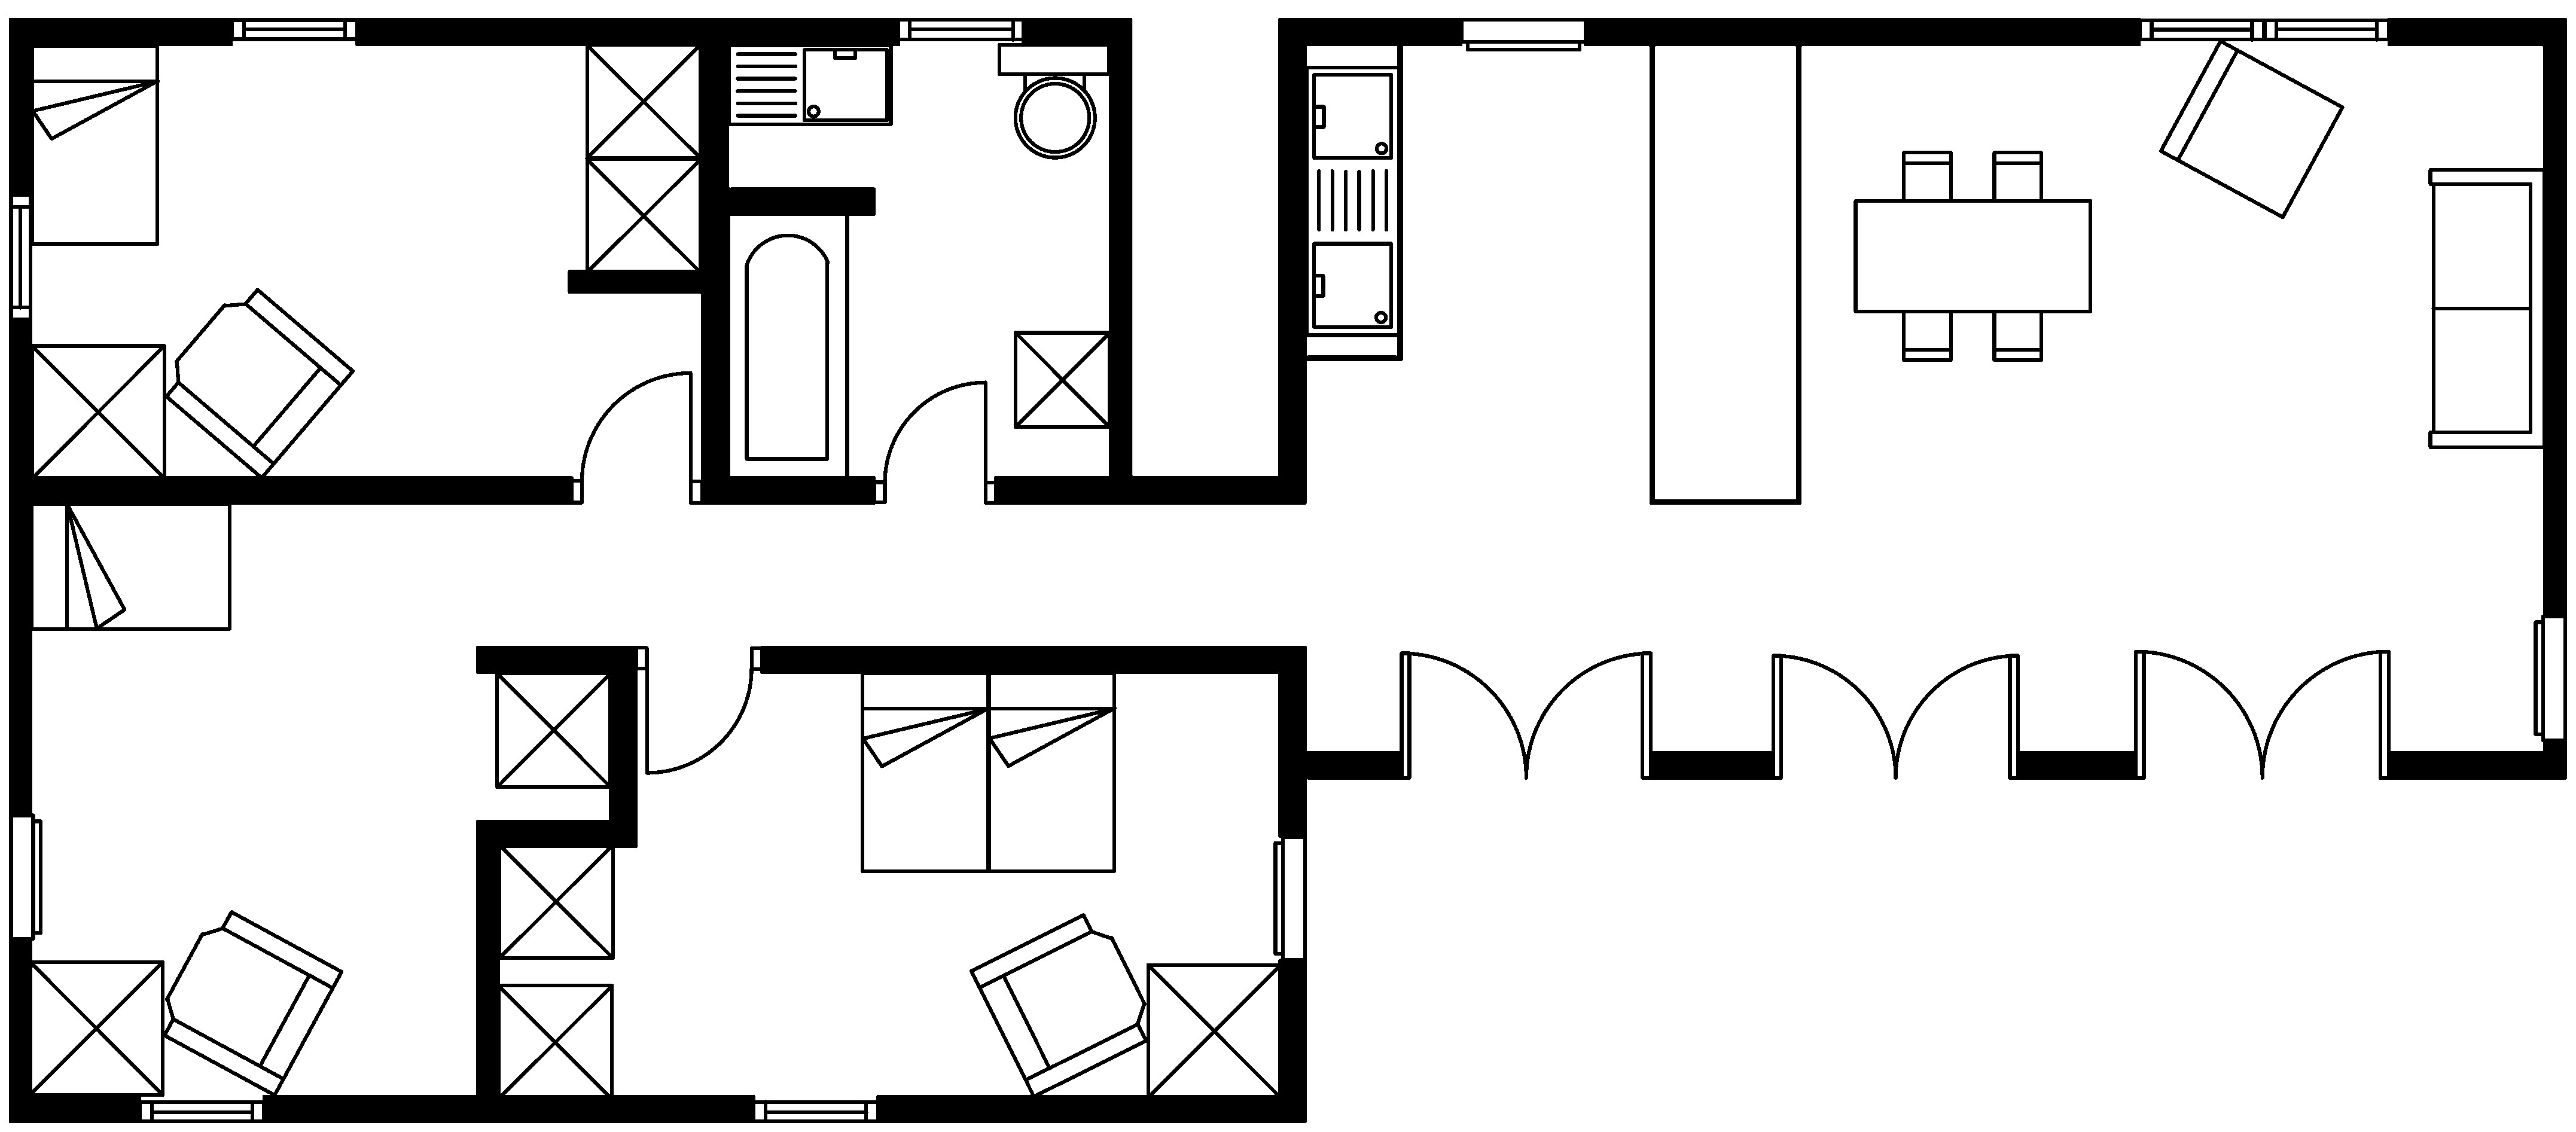armchair: (163, 288, 355, 480), (161, 909, 343, 1097), (968, 912, 1148, 1099)
bed: (859, 670, 991, 872), (986, 670, 1117, 872), (28, 501, 232, 631), (30, 43, 159, 246)
coffee_table: (26, 959, 164, 1097), (1145, 963, 1283, 1099), (30, 343, 166, 480), (583, 41, 702, 161), (494, 982, 614, 1101), (494, 670, 613, 789), (496, 841, 614, 959), (585, 156, 702, 274), (1012, 330, 1112, 429)
dining_table: (1853, 150, 2093, 361)
large_sink: (997, 41, 1111, 158)
large_sofa: (2428, 168, 2546, 449)
sink: (726, 43, 894, 127)
small_sofa: (2159, 38, 2344, 219)
tub: (726, 210, 849, 483)
twin_sink: (1304, 64, 1401, 337)
